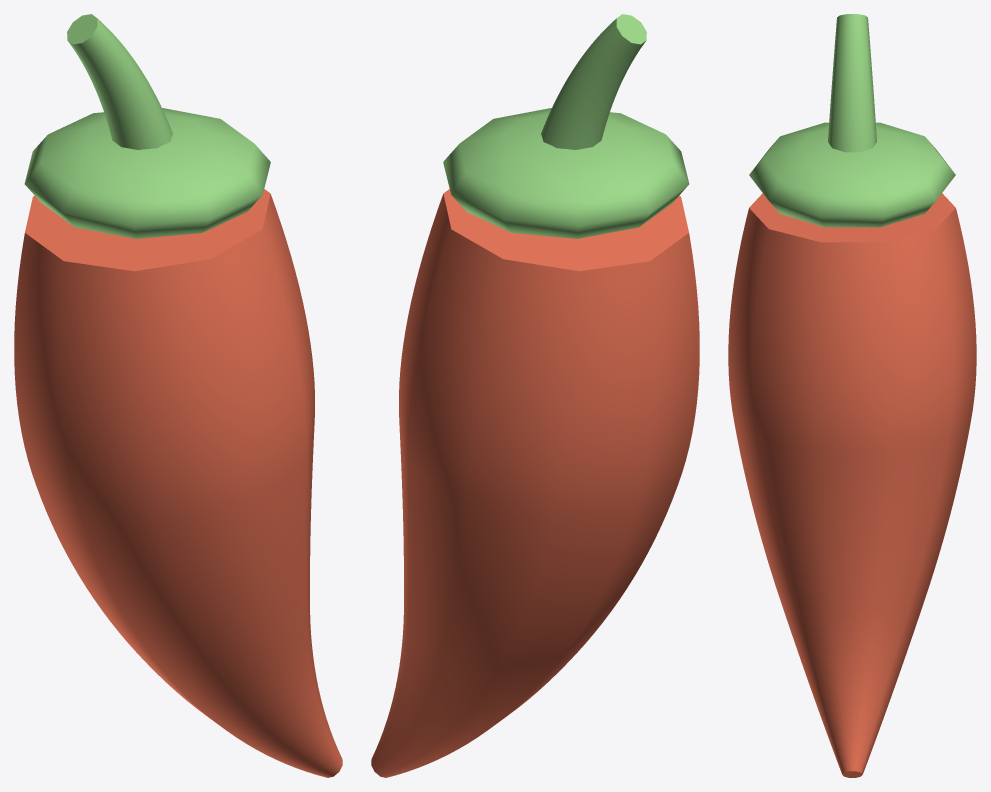
The model's file is EmberPepper.fbx.
The picture shows the model from 3 angles, left to right: view 1: azimuth 30°, elevation 25°; view 2: azimuth 150°, elevation 25°; view 3: azimuth 270°, elevation 25°; orthographic projection. The views are drawn at different scales.
Parts seen in each view (by area): view 1: Handle, Leaf, Leaf.001; view 2: Handle, Leaf, Leaf.001; view 3: Handle, Leaf, Leaf.001.
Boxes of the visible parts, box(x1,y1,x2,y2) form: Handle: box(14, 189, 342, 777); Leaf: box(24, 108, 270, 238); Leaf.001: box(67, 14, 172, 149); Handle: box(371, 189, 699, 777); Leaf: box(443, 108, 689, 238); Leaf.001: box(541, 14, 646, 149); Handle: box(728, 193, 976, 777); Leaf: box(749, 122, 955, 227); Leaf.001: box(828, 14, 876, 152).
Size of the model in its own units: 0.5568 by 1.43 by 0.4799.
